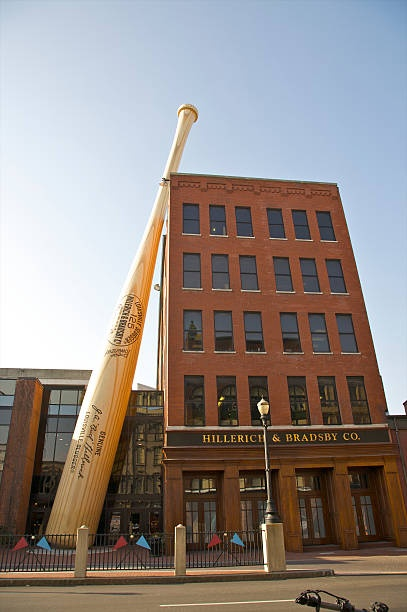bita: (38, 94, 202, 548)
